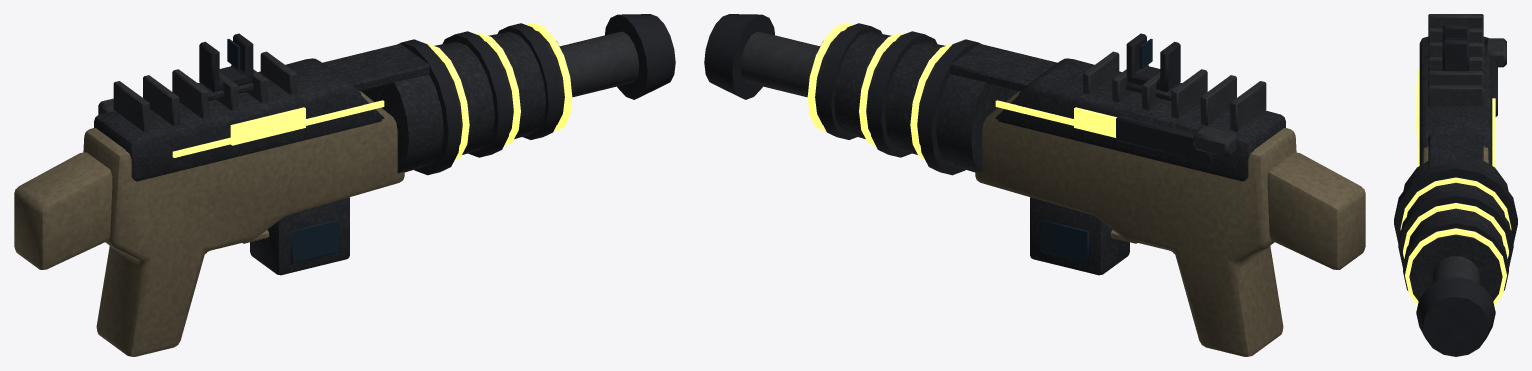
File: blaster_r4.fbx
3 renders of one model, left to right at view 1: azimuth 30°, elevation 25°; view 2: azimuth 150°, elevation 25°; view 3: azimuth 270°, elevation 25°, orthographic. The views are drawn at different scales.
Visible parts, largest first — view 1: Body, Glow, Magazine; view 2: Body, Magazine, Glow, Bolt; view 3: Body, Glow, Bolt.
Part boxes in pixels (x1,y1,x2,y2): Body: [14, 14, 675, 356]; Glow: [172, 22, 572, 159]; Magazine: [250, 197, 349, 275]; Body: [704, 14, 1365, 356]; Magazine: [1030, 197, 1129, 275]; Glow: [807, 22, 1116, 159]; Bolt: [1116, 115, 1237, 162]; Body: [1394, 14, 1517, 356]; Glow: [1400, 70, 1511, 305]; Bolt: [1485, 38, 1506, 116].
Bounding box in the file's own units: 6 × 2.52 × 1.12.
Materials: 2 (1 with a texture image).
